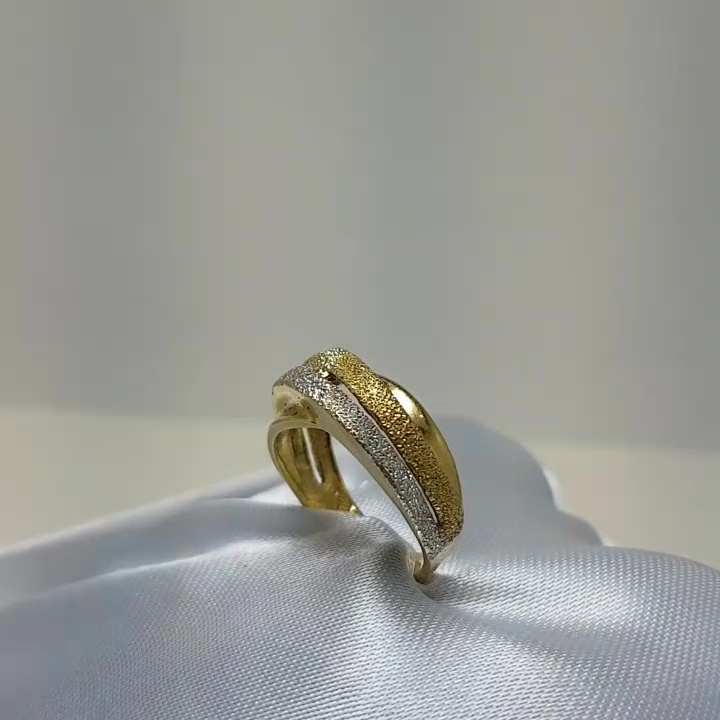Ring 5: (248, 336, 488, 582)
